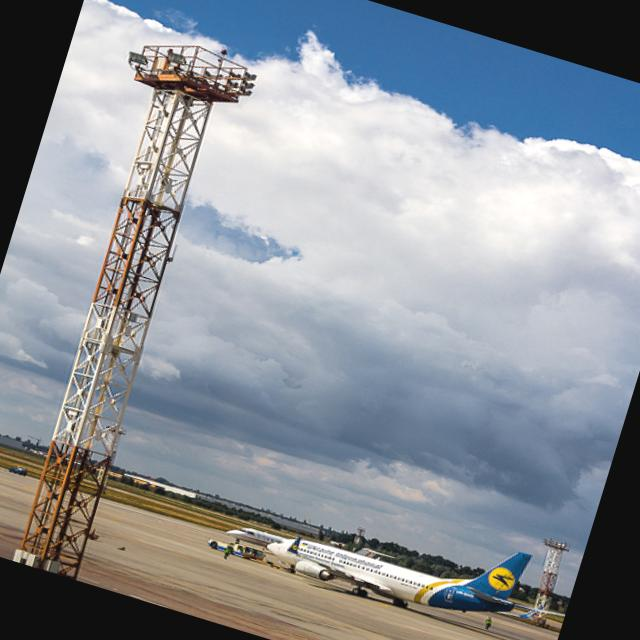Vehicle: (206, 535, 260, 562)
